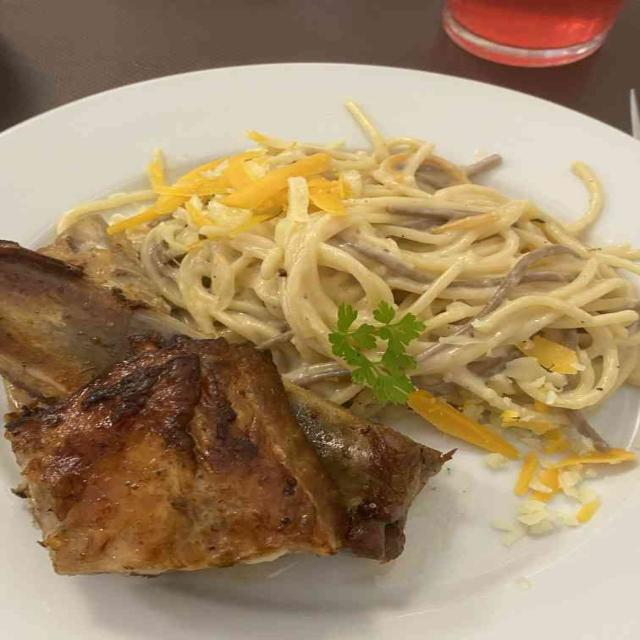chicken: (7, 337, 366, 574), (350, 427, 429, 521)
cup: (444, 0, 621, 67)
garbage: (0, 240, 218, 405), (284, 381, 382, 490)
plate: (0, 63, 639, 639)
spaghetti: (42, 102, 639, 531)
